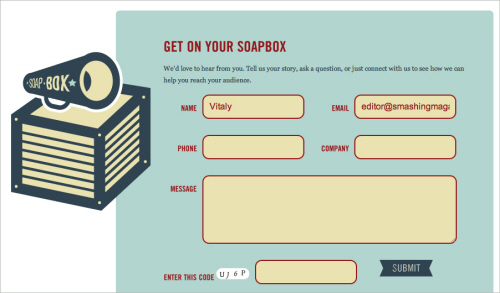_form_: (81, 1, 497, 293)
button: (378, 259, 433, 278)
field: (200, 174, 458, 244), (353, 93, 457, 121), (202, 93, 305, 120), (353, 134, 457, 160), (254, 259, 358, 285), (201, 135, 305, 159)
